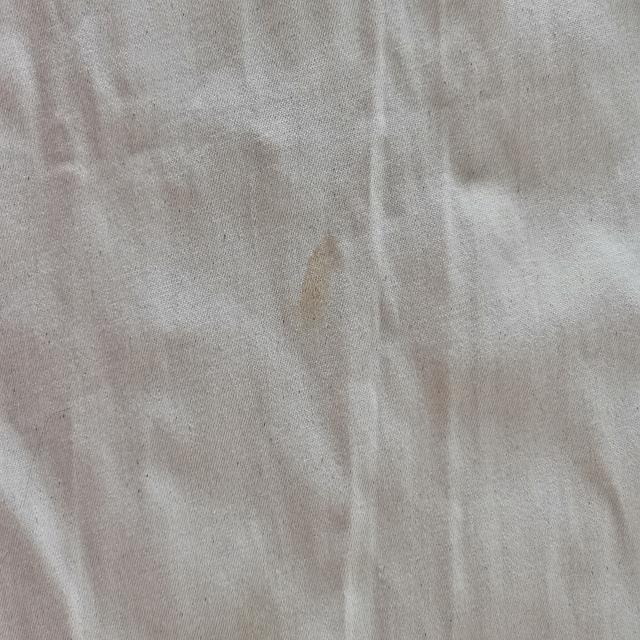taaaches: (298, 222, 346, 344)
